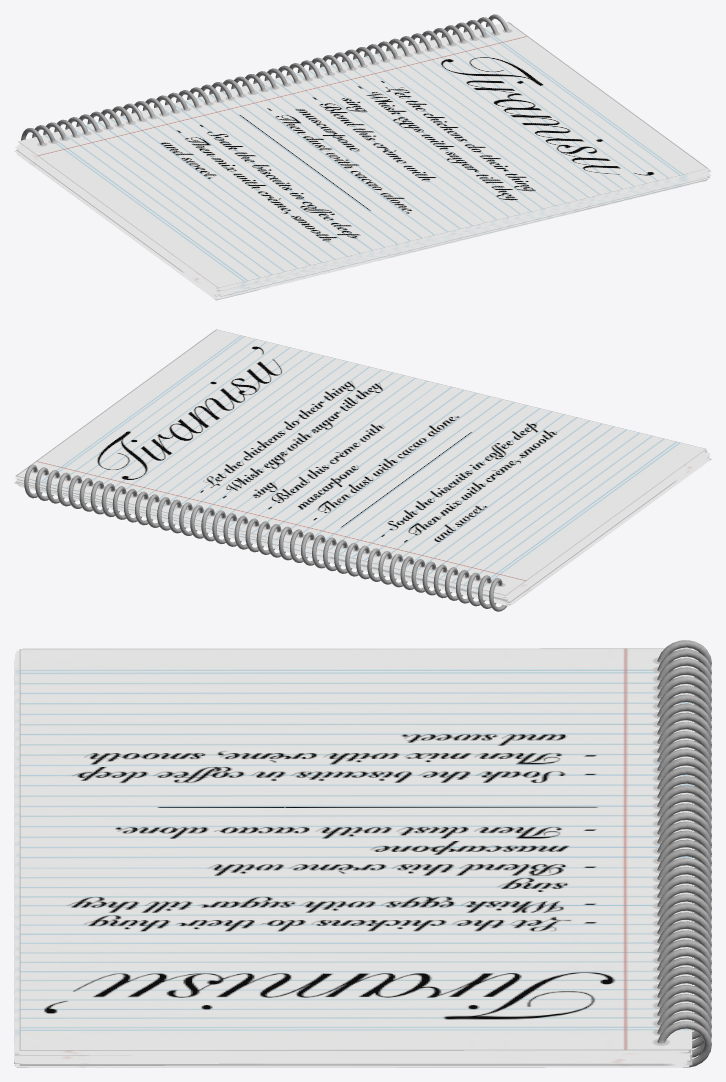
The model's file is Instructions.glb.
The picture shows the model from 3 angles, top to bottom: view 1: azimuth 30°, elevation 25°; view 2: azimuth 150°, elevation 25°; view 3: azimuth 270°, elevation 25°; orthographic projection. The views are drawn at different scales.
Visible parts, largest first — view 1: SM_notebook_papers.109; view 2: SM_notebook_papers.109; view 3: SM_notebook_papers.109.
Boxes of the visible parts, x1=… form: SM_notebook_papers.109: x1=14, y1=14, x2=711, y2=300; SM_notebook_papers.109: x1=14, y1=329, x2=711, y2=611; SM_notebook_papers.109: x1=14, y1=640, x2=711, y2=1067.
Size of the model in its own units: 0.3008 by 0.0172 by 0.218.
1 material, 1 textured.
